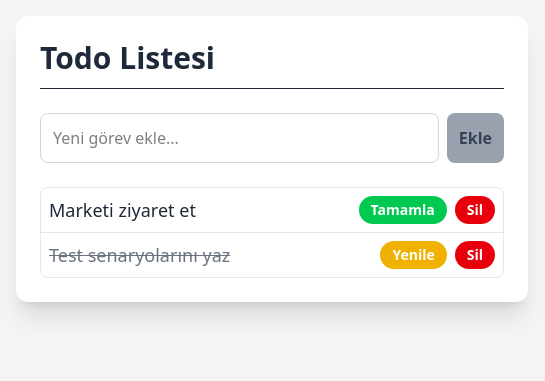
Test case: template spec › Input alanına  25 karakterden fazla girilirse sadece ilk 25 karakteri yazar ve geri kalan karakterleri yazmaz
The image size is (545, 381).
Type "Bu görev metni yirmi beş karakterden kesinlikle daha uzundur." into the field with test id "new-todo-input" at (240, 138), box [40,113,439,163]
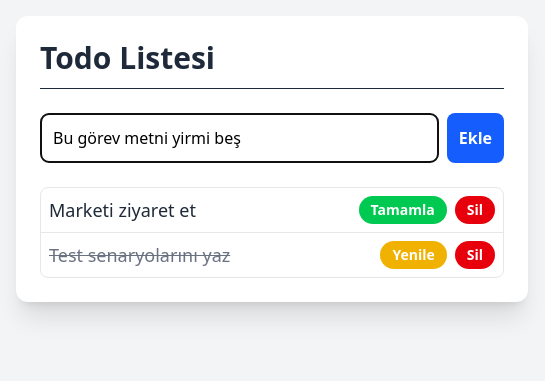
Expected: the element with test id "add-todo-button" is enabled
Expected: the field with test id "new-todo-input" holds "Bu görev metni yirmi beş ", [40,113,439,163]
Click the button with test id "add-todo-button" at (476, 138), box [447,113,504,163]
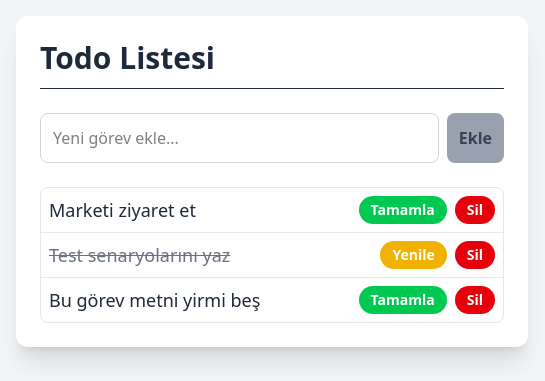
Expected: the number of list items is 3, [41,188,503,233]; [41,233,503,278]; [41,278,503,322]
